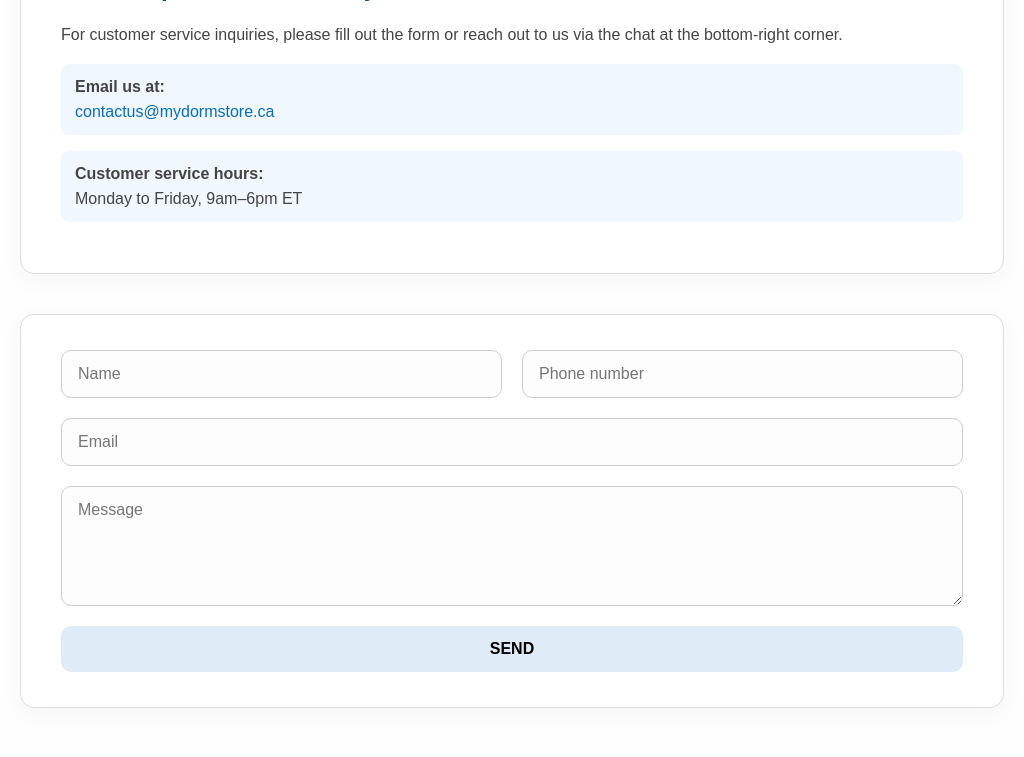
Test: ContactUs › displays success message when submission is successful
(page scrolled)
Type "Judy" into the field with placeholder "Name". click: coordinates (282, 374)
box: [61,350,502,398]
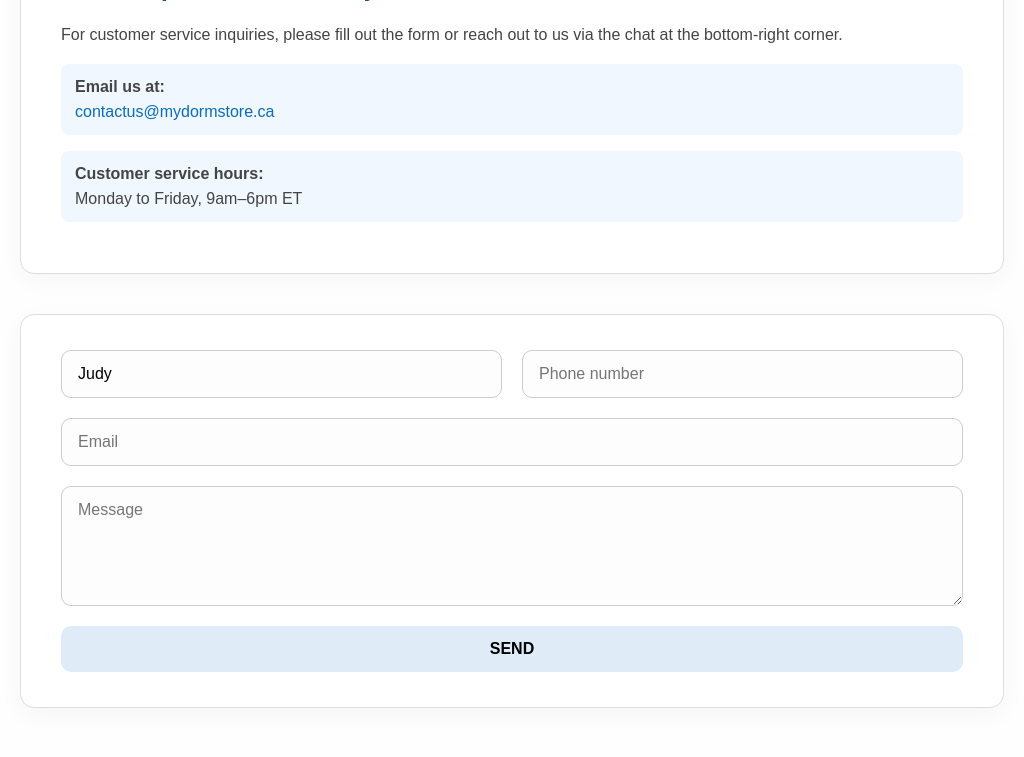
Type "judy@example.com" into the field with placeholder "Email". click: coordinates (512, 442)
box: [61,418,963,466]
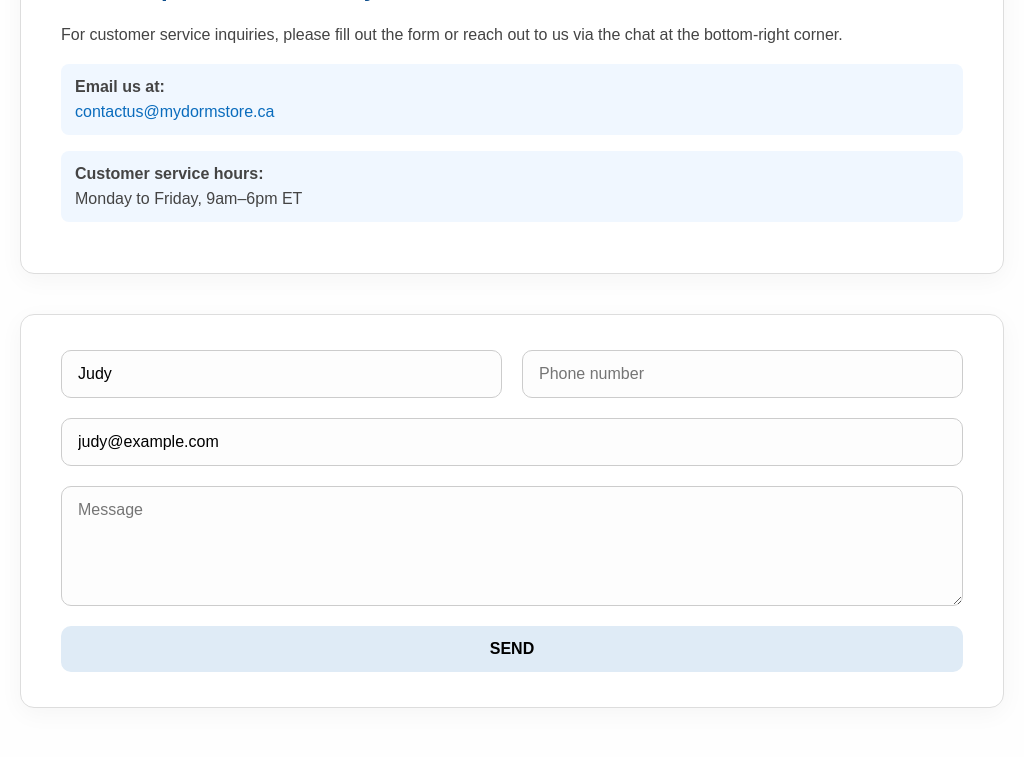
Type "Test message content." into the text box with placeholder "Message". click: coordinates (512, 546)
box: [61,486,963,606]
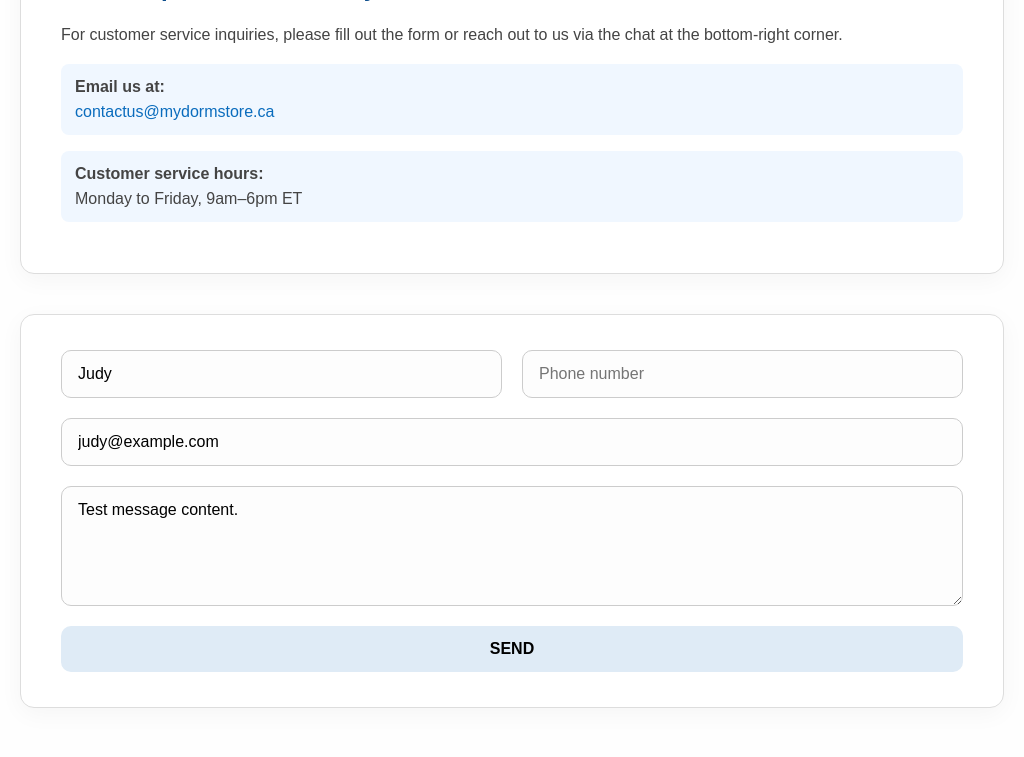
Click the button "SEND". click: coordinates (512, 649)
box: [61,626,963,672]
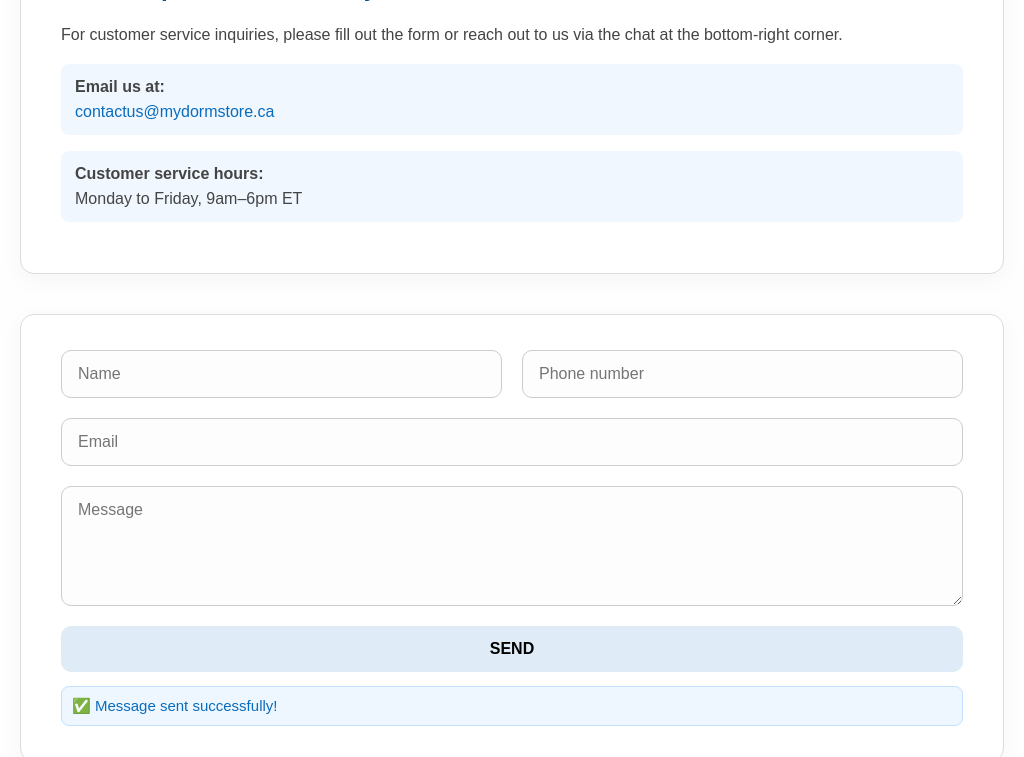
Expected: the text "✅ Message sent successfully!" is shown, [61,686,963,726]
